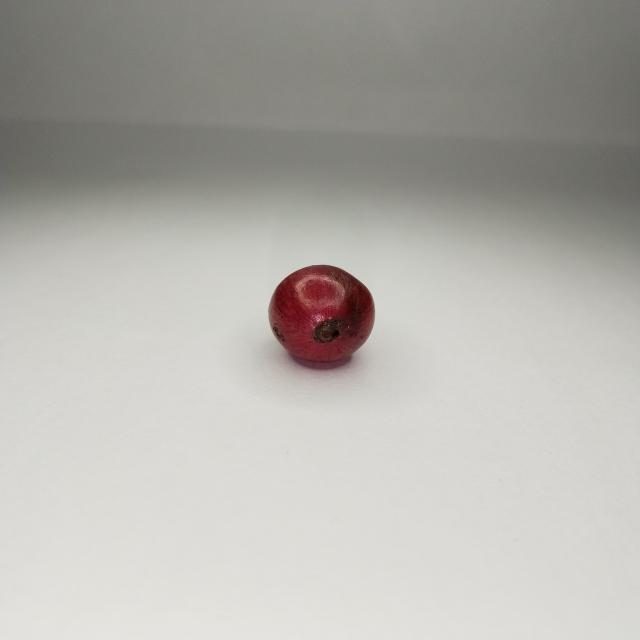Infectado: (267, 266, 376, 372)
